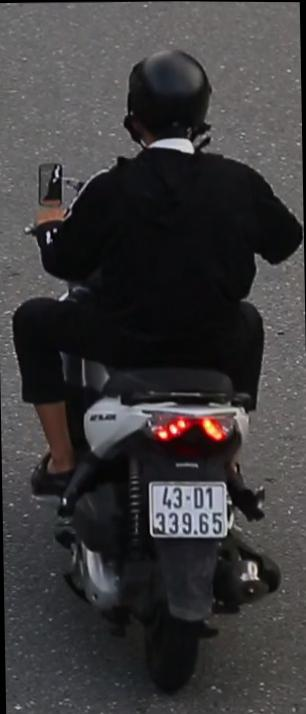LP: (142, 470, 233, 541)
helmet: (112, 43, 217, 166)
